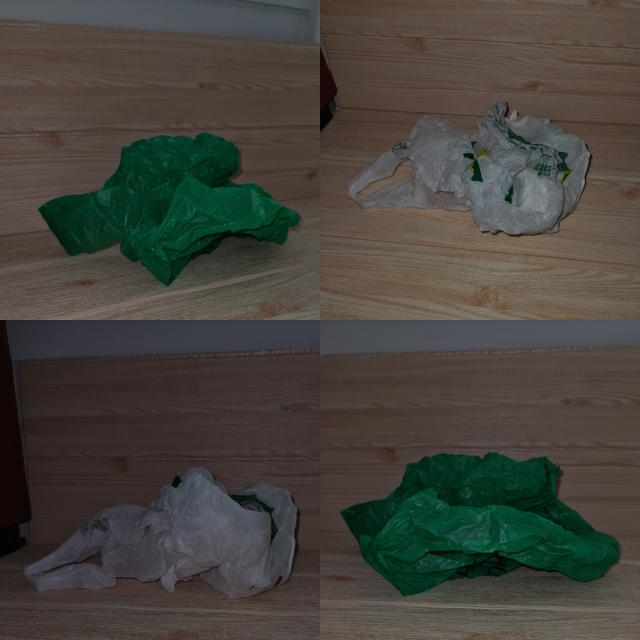Single-layer Plastic: (39, 132, 300, 285), (341, 452, 619, 595), (24, 468, 296, 599), (348, 101, 590, 235)
